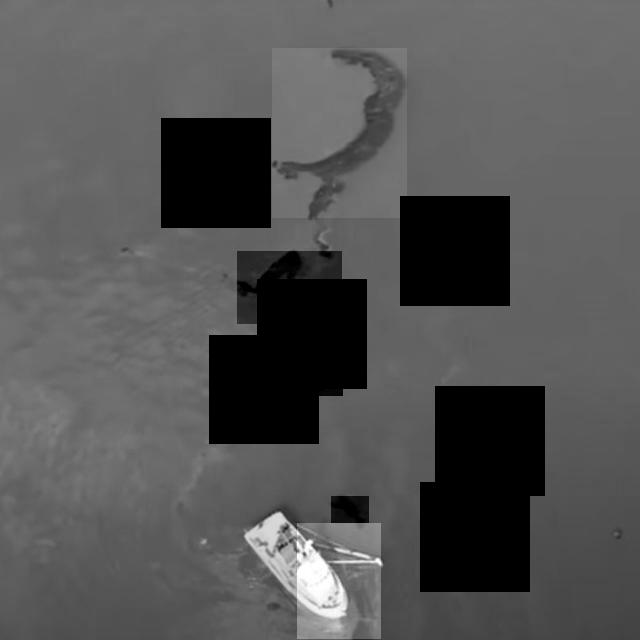oil spill: (272, 48, 407, 218), (297, 524, 381, 639), (237, 251, 342, 324), (269, 332, 343, 396), (331, 496, 369, 531), (221, 134, 249, 151)
